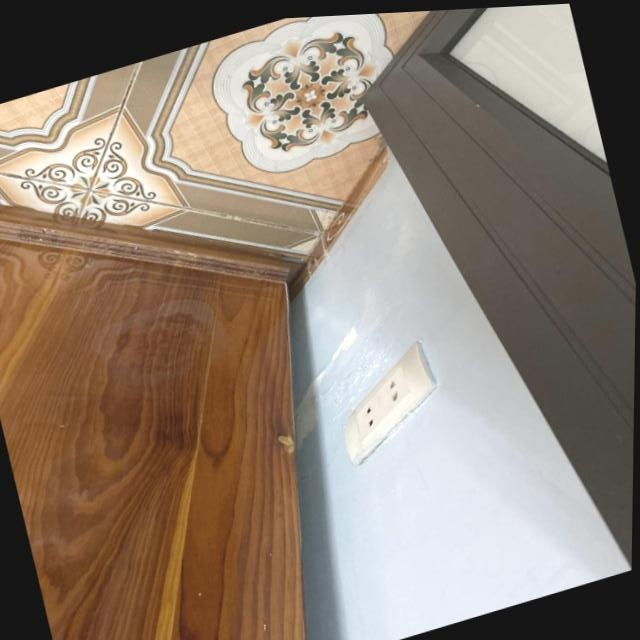outlet: (327, 337, 452, 468)
